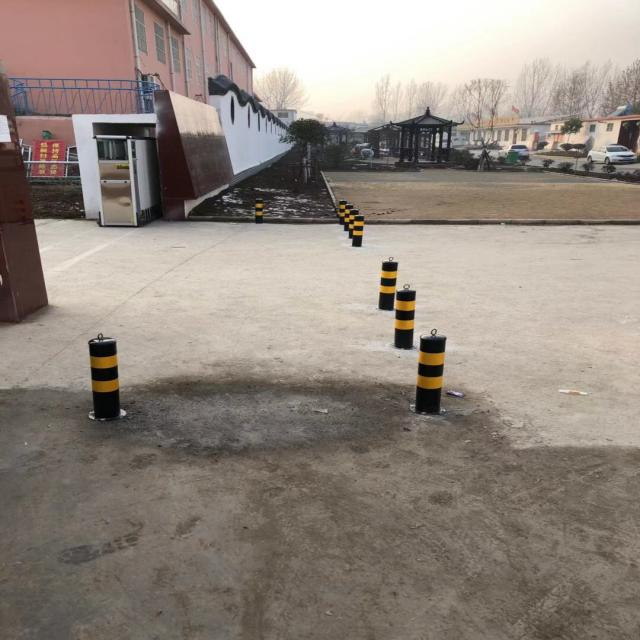car: (587, 144, 637, 164), (496, 144, 530, 159)
warning_column: (84, 332, 128, 420), (410, 328, 448, 415), (391, 283, 417, 349), (376, 256, 397, 310), (350, 214, 364, 248), (252, 198, 264, 224), (338, 198, 348, 224)
